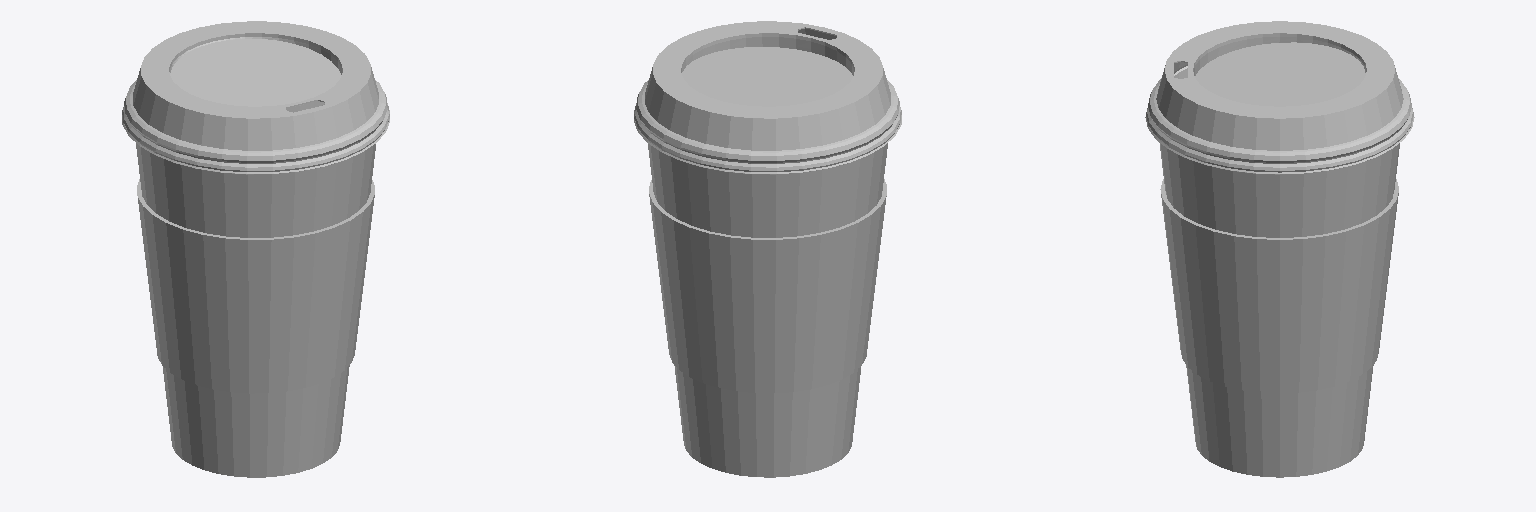
File: coffeecup.obj
3 renders of one model, left to right at view 1: azimuth 30°, elevation 25°; view 2: azimuth 150°, elevation 25°; view 3: azimuth 270°, elevation 25°, orthographic.
Parts seen in each view (by area): view 1: Sleeve_Circle.003, Lid_Circle.004, Cup_Circle.003; view 2: Sleeve_Circle.003, Lid_Circle.004, Cup_Circle.003; view 3: Sleeve_Circle.003, Lid_Circle.004, Cup_Circle.003.
Part boxes in pixels (x1,y1,x2,y2): Sleeve_Circle.003: (137,179,374,393); Lid_Circle.004: (122,21,389,174); Cup_Circle.003: (136,143,375,477); Sleeve_Circle.003: (649,179,886,392); Lid_Circle.004: (634,21,901,174); Cup_Circle.003: (648,143,887,477); Sleeve_Circle.003: (1160,179,1398,393); Lid_Circle.004: (1145,21,1414,174); Cup_Circle.003: (1159,66,1399,477).
Size of the model in its own units: 3.19 by 4.86 by 3.19.